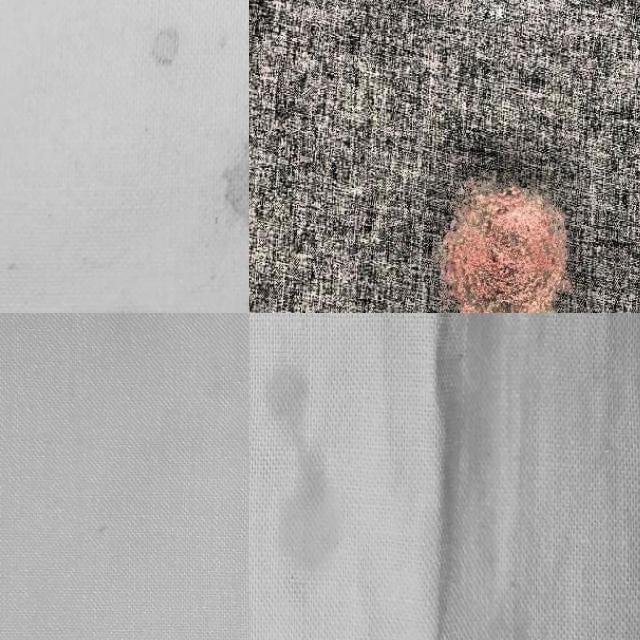Thread_other: (380, 84, 640, 313), (202, 99, 249, 297), (134, 11, 200, 81)
